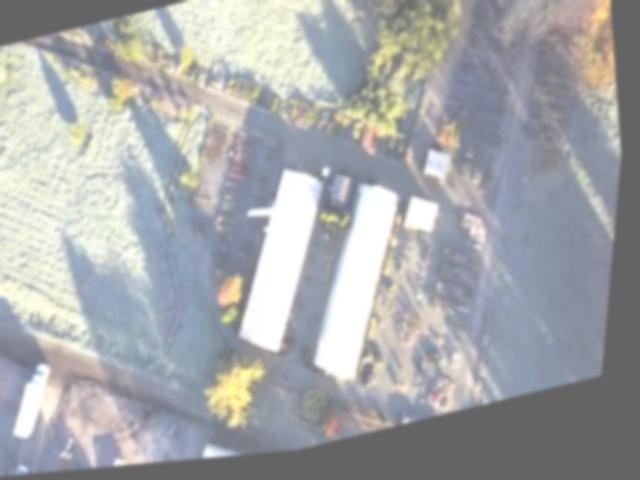uav: (240, 192, 309, 246)
